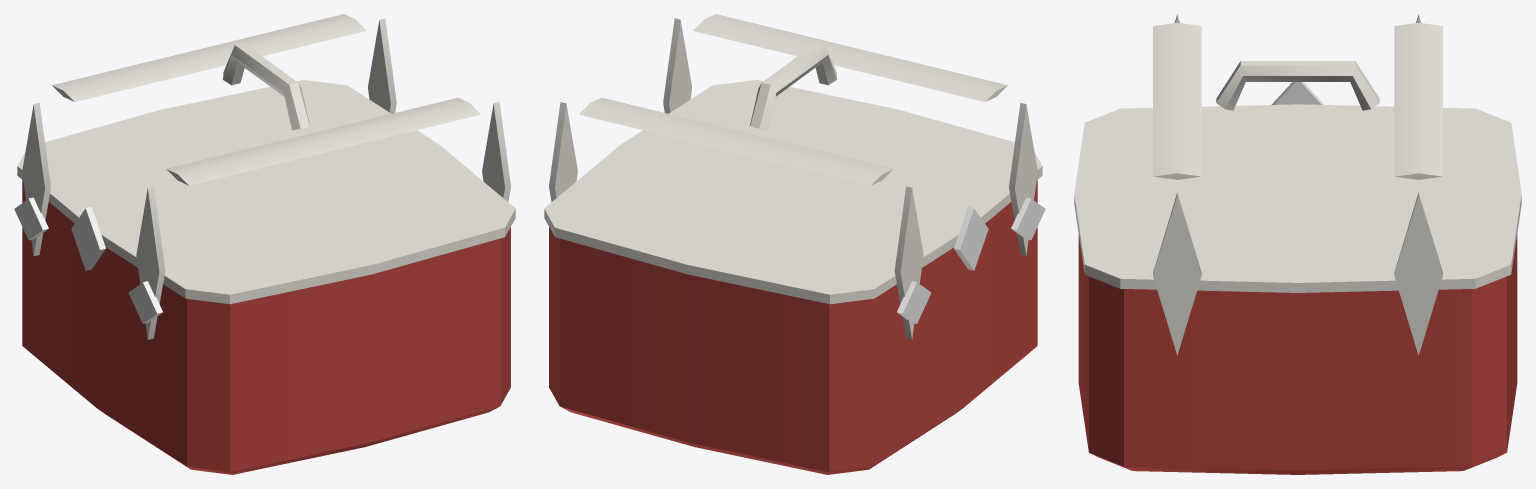
The model's file is trunk_lod1.glb.
3 renders of one model, left to right at view 1: azimuth 30°, elevation 25°; view 2: azimuth 150°, elevation 25°; view 3: azimuth 270°, elevation 25°, orthographic. The views are drawn at different scales.
Visible parts, largest first — view 1: trunk_lod1; view 2: trunk_lod1; view 3: trunk_lod1.
Part boxes in pixels (bbox=[...]): trunk_lod1: bbox=[14, 14, 515, 474]; trunk_lod1: bbox=[544, 14, 1045, 474]; trunk_lod1: bbox=[1074, 14, 1521, 474].
Bounding box in the file's own units: 0.357 × 0.2975 × 0.3672.
